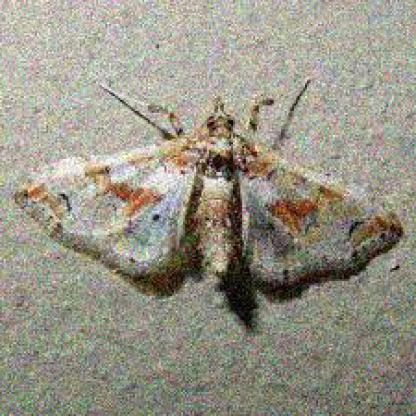leucinodes: (13, 99, 406, 297)
